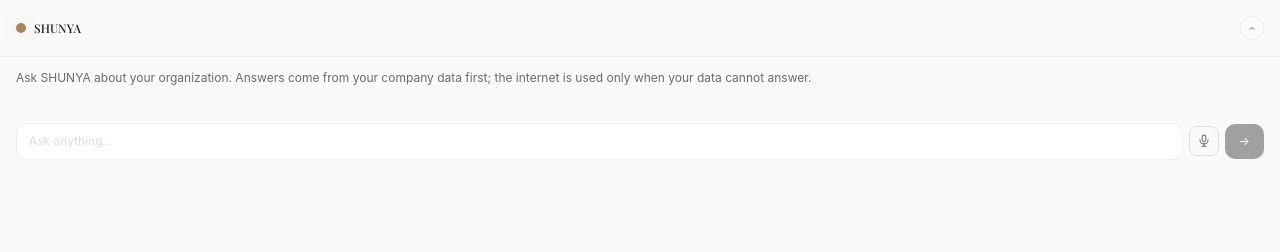
Test case: AIResidentPanel › does not invent an answer when the service responds with failure
The image size is (1280, 252).
Type "What changed?" into the field with placeholder "Ask anything…".
click(599, 141); type("What changed?")  # box top-left (16, 123), bottom-right (1182, 160)
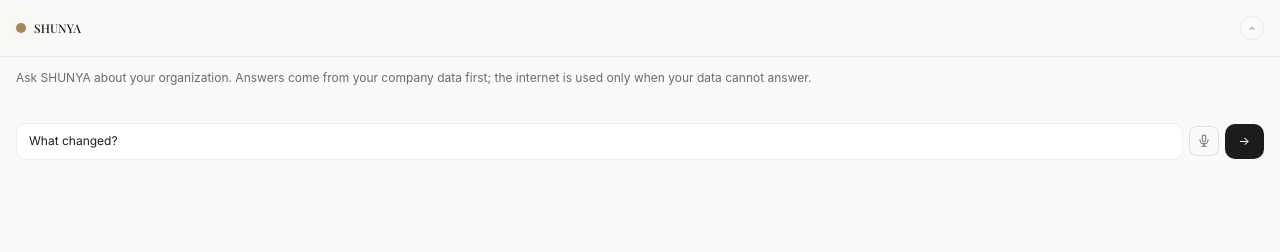
Click the button "→".
click(1244, 141)  # box top-left (1224, 124), bottom-right (1264, 159)
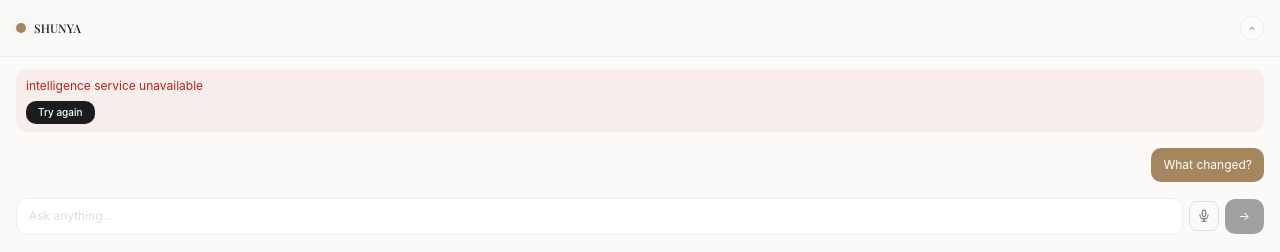
Expected: the message "intelligence service unavailable Try again" is shown, top-left (16, 69), bottom-right (1264, 132)
